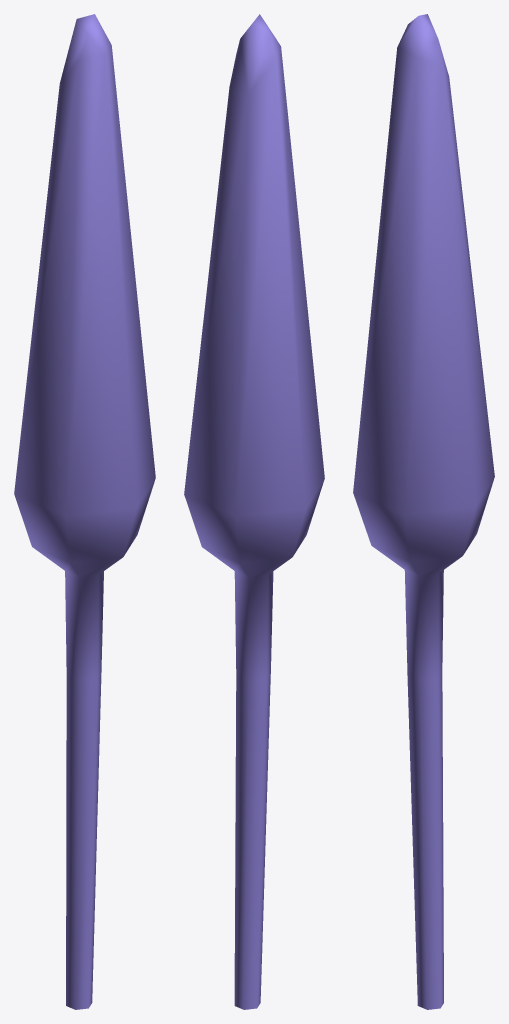
Rendered from roselle3.fbx.
The picture shows the model from 3 angles, left to right: view 1: azimuth 90°, elevation 25°; view 2: azimuth 150°, elevation 25°; view 3: azimuth 330°, elevation 25°; orthographic projection.
Visible parts, largest first — view 1: roselle3; view 2: roselle3; view 3: roselle3.
Boxes of the visible parts, <box> form: roselle3: <box>14,14,155,1009</box>; roselle3: <box>184,14,324,1009</box>; roselle3: <box>353,14,494,1009</box>.
Size of the model in its own units: 13.7 by 106 by 13.7.
